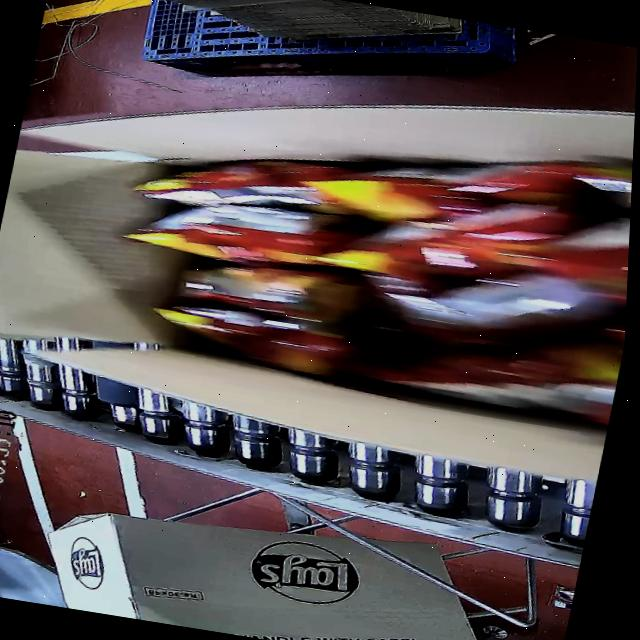MASALA: (92, 79, 636, 431)
